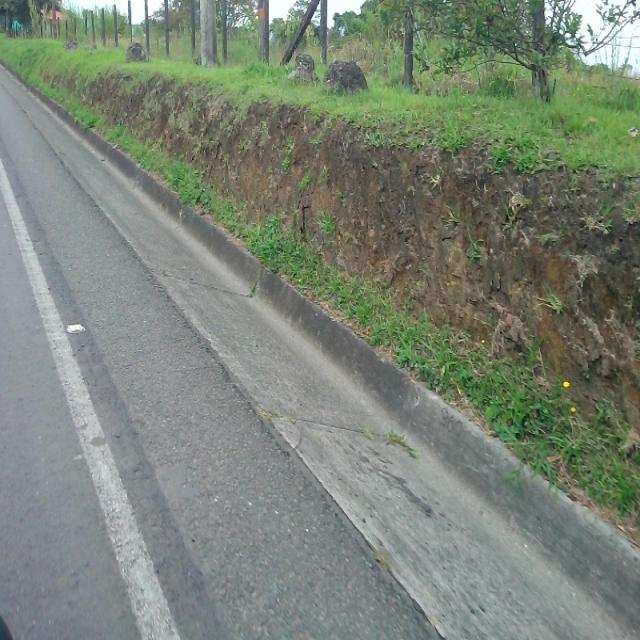DITCH: (1, 59, 638, 638), (2, 73, 638, 638)
